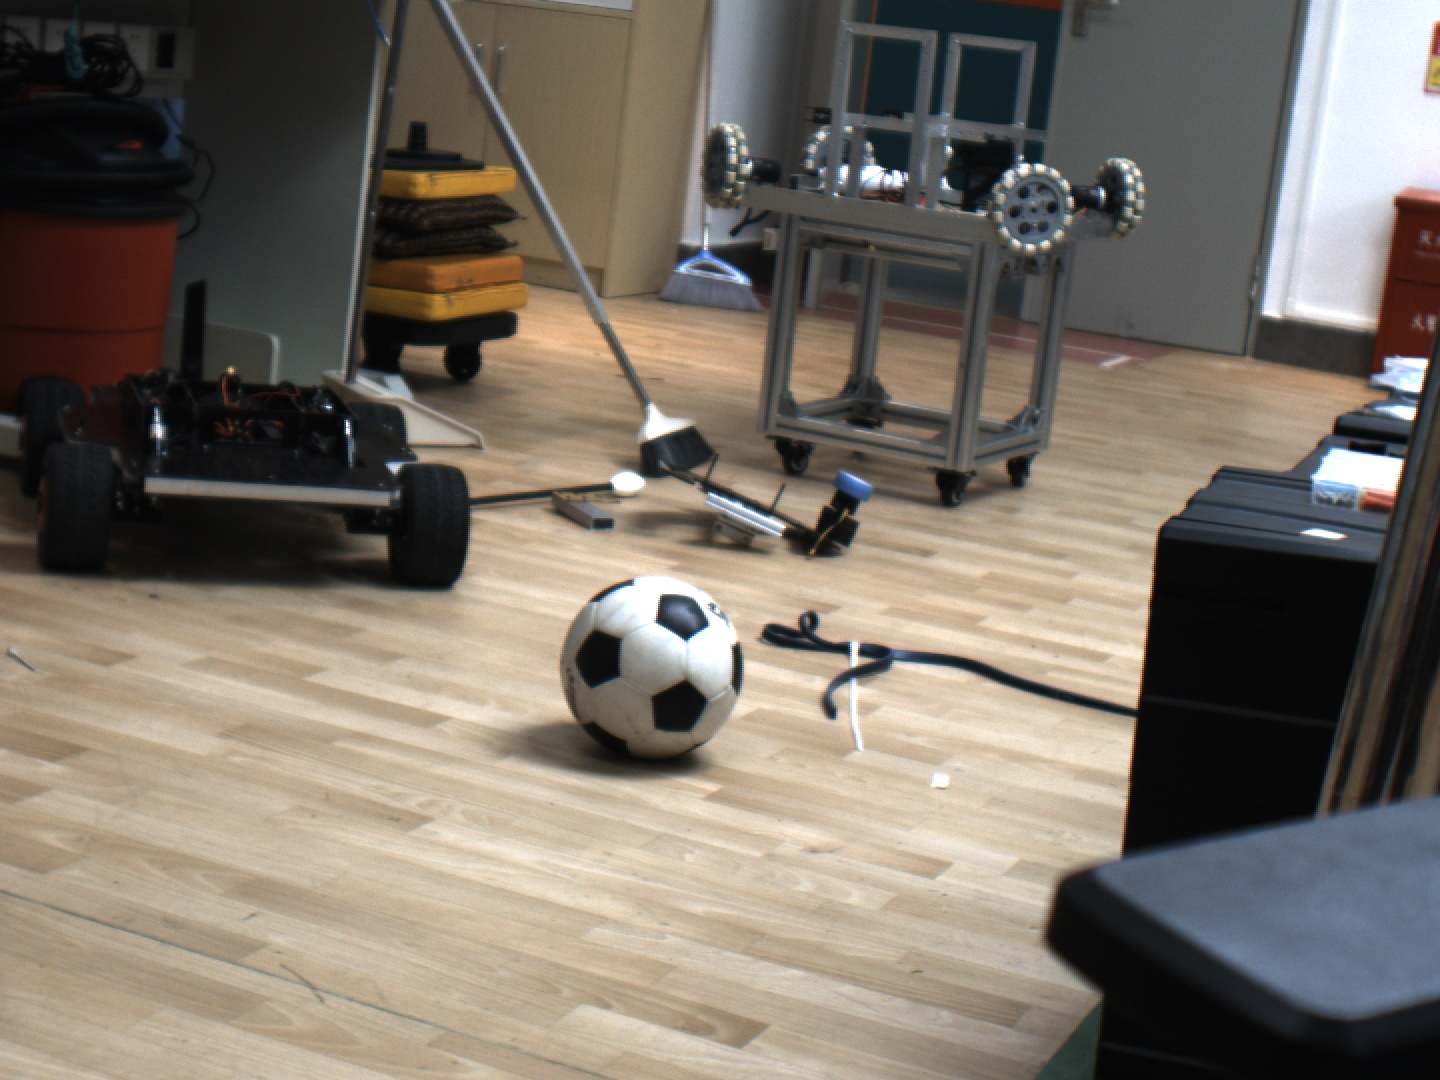ball: (532, 558, 774, 785)
